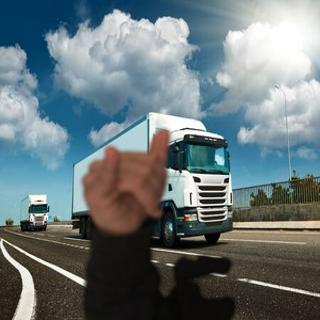HAVE: (74, 122, 180, 241)
